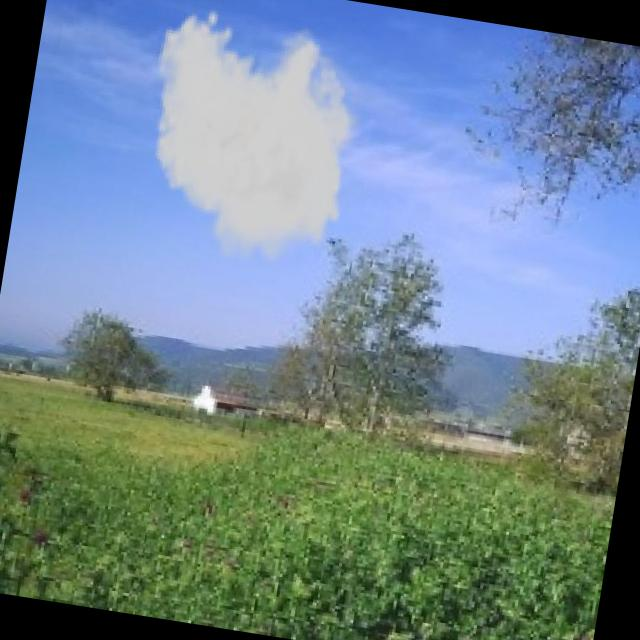Smoke: (125, 0, 382, 286)
